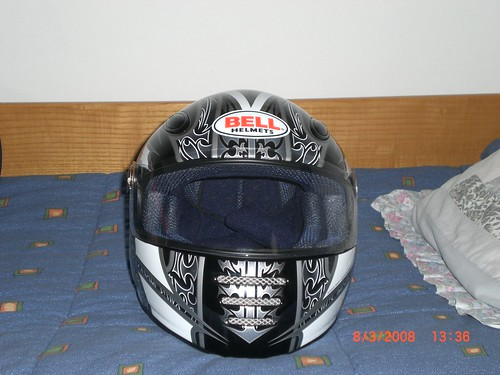helmet: (114, 77, 359, 359)
